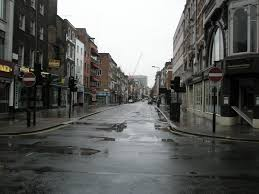strada: (5, 134, 256, 194), (65, 101, 171, 131)
